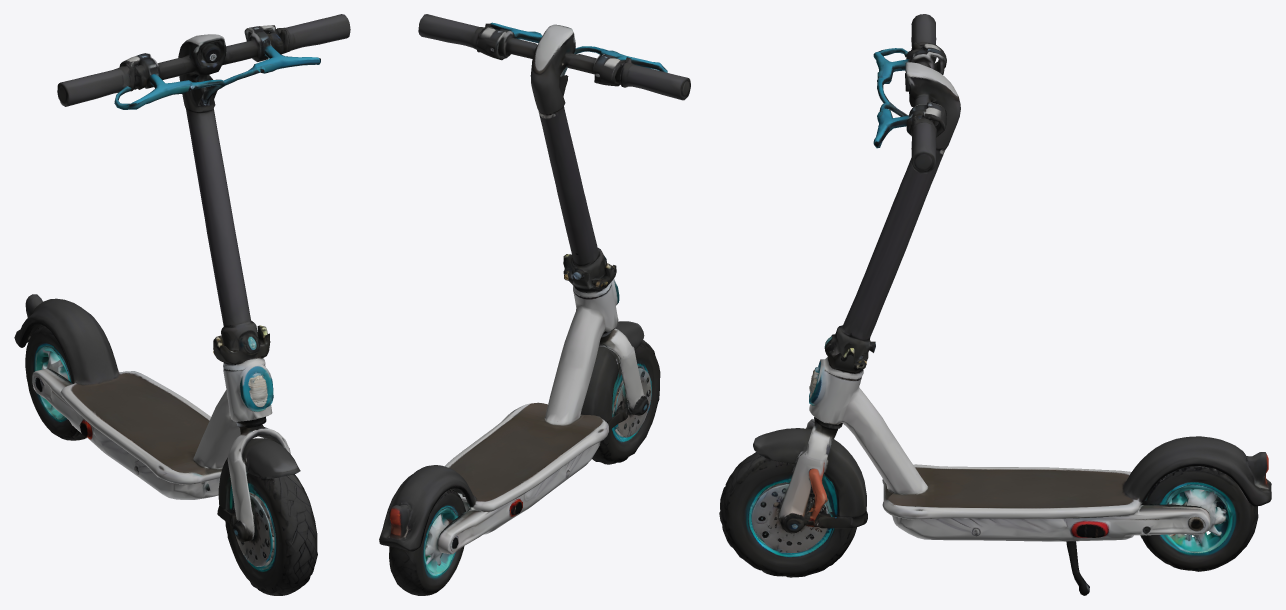
Rendered from au_veh_scooter_neon.glb.
3 renders of one model, left to right at view 1: azimuth 30°, elevation 25°; view 2: azimuth 150°, elevation 25°; view 3: azimuth 270°, elevation 25°, orthographic. The views are drawn at different scales.
Visible parts, largest first — view 1: tripo_node_147bc0f9-86a8-4139-8c17-605c2d930545; view 2: tripo_node_147bc0f9-86a8-4139-8c17-605c2d930545; view 3: tripo_node_147bc0f9-86a8-4139-8c17-605c2d930545.
Part boxes in pixels (bbox=[...]): tripo_node_147bc0f9-86a8-4139-8c17-605c2d930545: bbox=[14, 14, 350, 595]; tripo_node_147bc0f9-86a8-4139-8c17-605c2d930545: bbox=[379, 14, 690, 595]; tripo_node_147bc0f9-86a8-4139-8c17-605c2d930545: bbox=[719, 14, 1271, 595].
Bounding box in the file's own units: 0.6408 × 1.1 × 1.08.
1 material, 1 textured.
